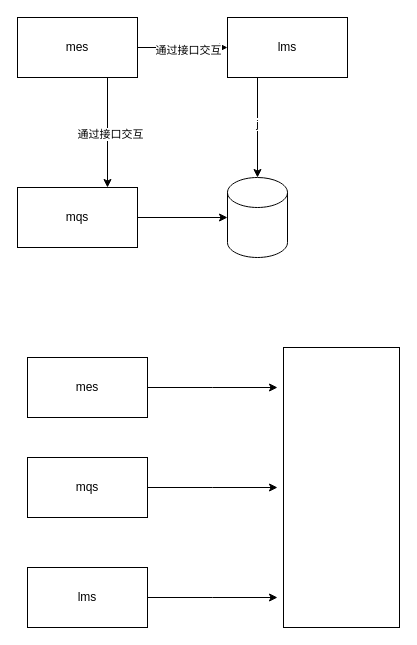
This 417x645 diagram has some shape labels left out. The centre of each missing label's shape, as x and y in pixels:
"中间库交互" goes at point 257,217.
"数据中台" goes at point 341,487.
